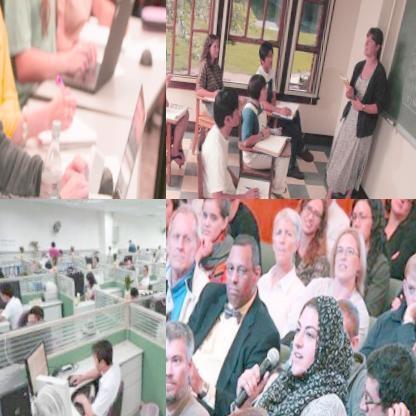head: (294, 285, 355, 383), (360, 331, 416, 416), (224, 229, 265, 304), (166, 314, 198, 406), (166, 202, 205, 265), (332, 218, 368, 278), (332, 288, 363, 354), (269, 200, 302, 258), (347, 199, 386, 241), (214, 80, 247, 129), (195, 199, 231, 238), (92, 333, 121, 373), (399, 237, 416, 305), (361, 13, 387, 55), (247, 66, 274, 102), (299, 199, 328, 229), (258, 35, 278, 66), (27, 302, 47, 328), (206, 29, 224, 57), (0, 277, 16, 300), (389, 199, 416, 210), (86, 264, 100, 283), (131, 278, 142, 295), (166, 37, 171, 71), (143, 258, 152, 272), (94, 248, 102, 263), (51, 235, 59, 245)
